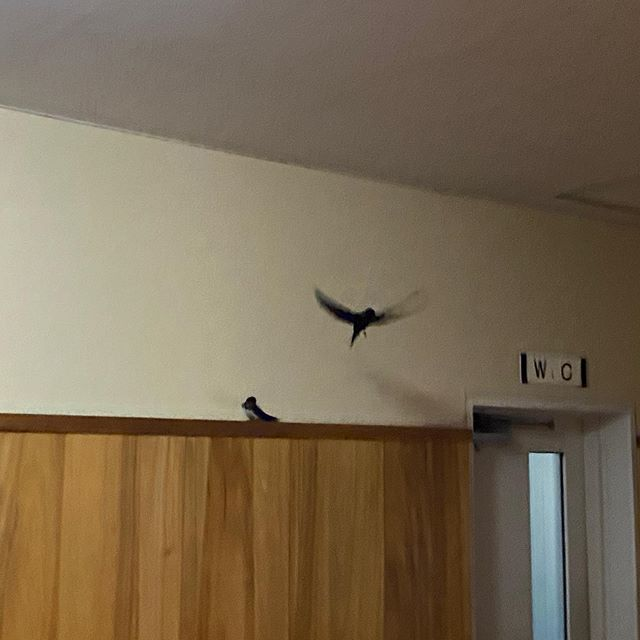animal: (292, 278, 426, 350), (232, 380, 286, 434)
door: (469, 391, 640, 640)
